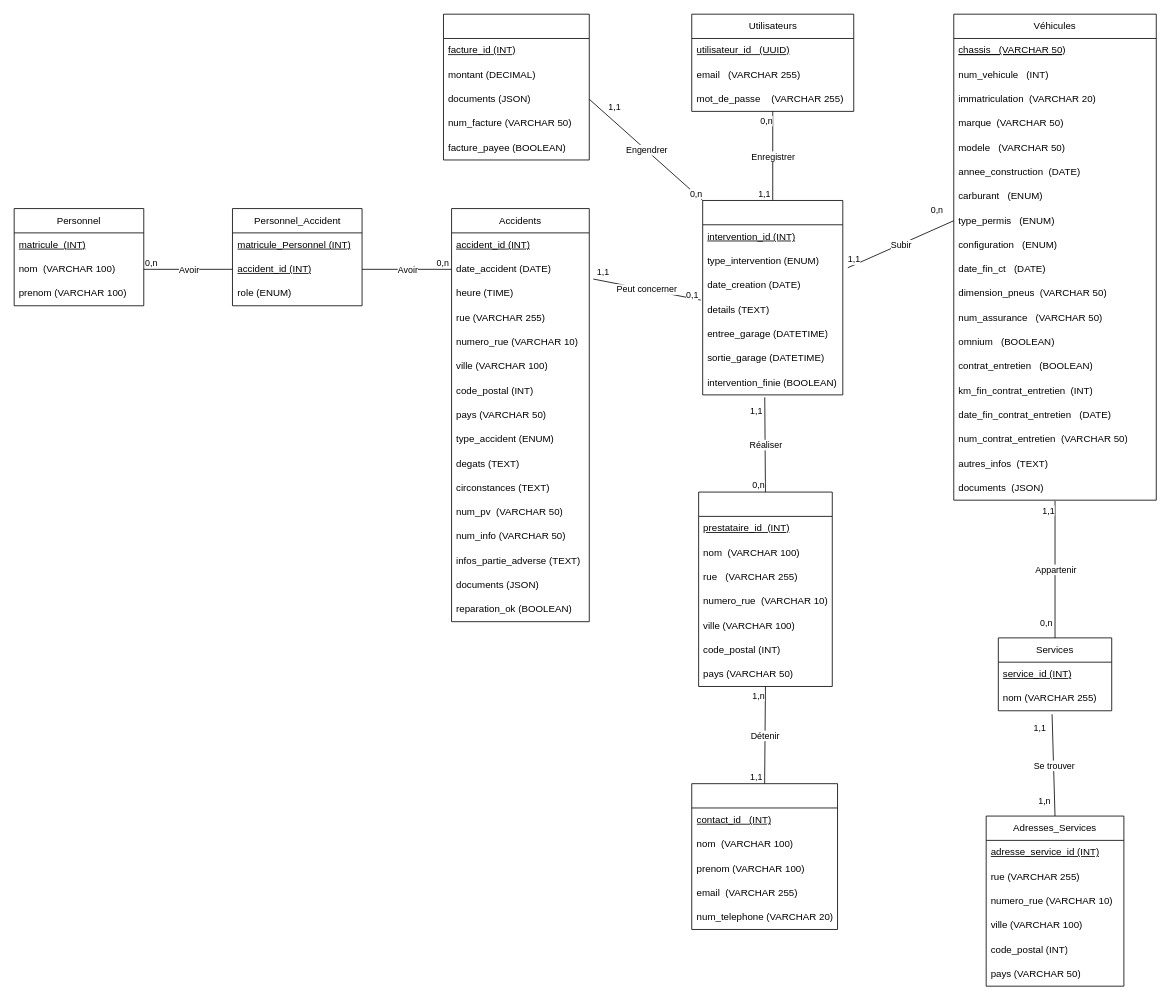
This 1170x1000 diagram has some shape labels left out. Each missing label, with the box of its shape:
Contacts: (691, 783, 838, 929)
Factures: (443, 13, 589, 160)
Interventions: (702, 200, 843, 395)
Prestataires: (698, 491, 832, 686)
